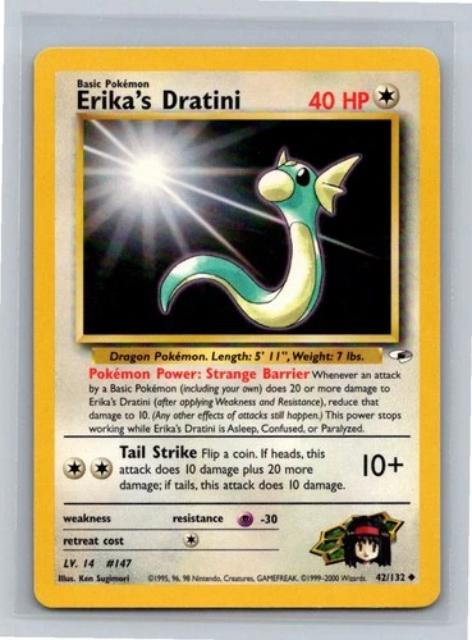Card: (26, 38, 447, 615)
Name: (68, 86, 247, 116)
